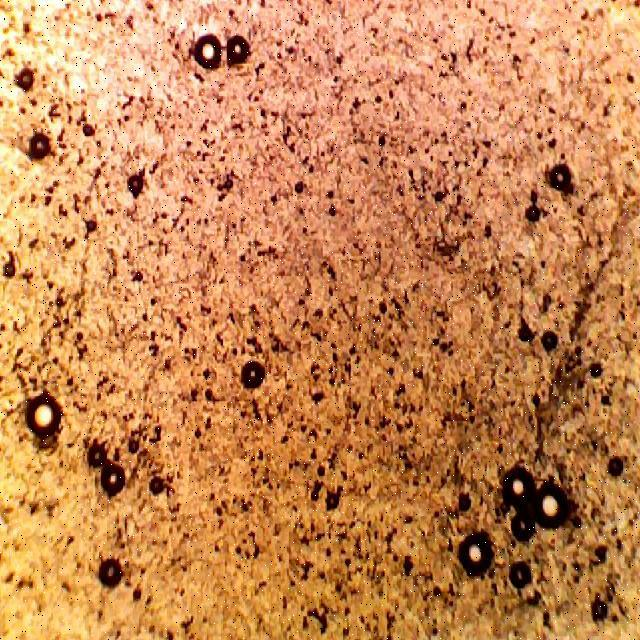microbeads: (23, 392, 65, 440), (455, 532, 495, 580), (500, 466, 536, 509), (95, 460, 128, 500), (192, 33, 222, 73), (238, 358, 268, 394), (96, 558, 124, 590), (27, 132, 53, 164)
